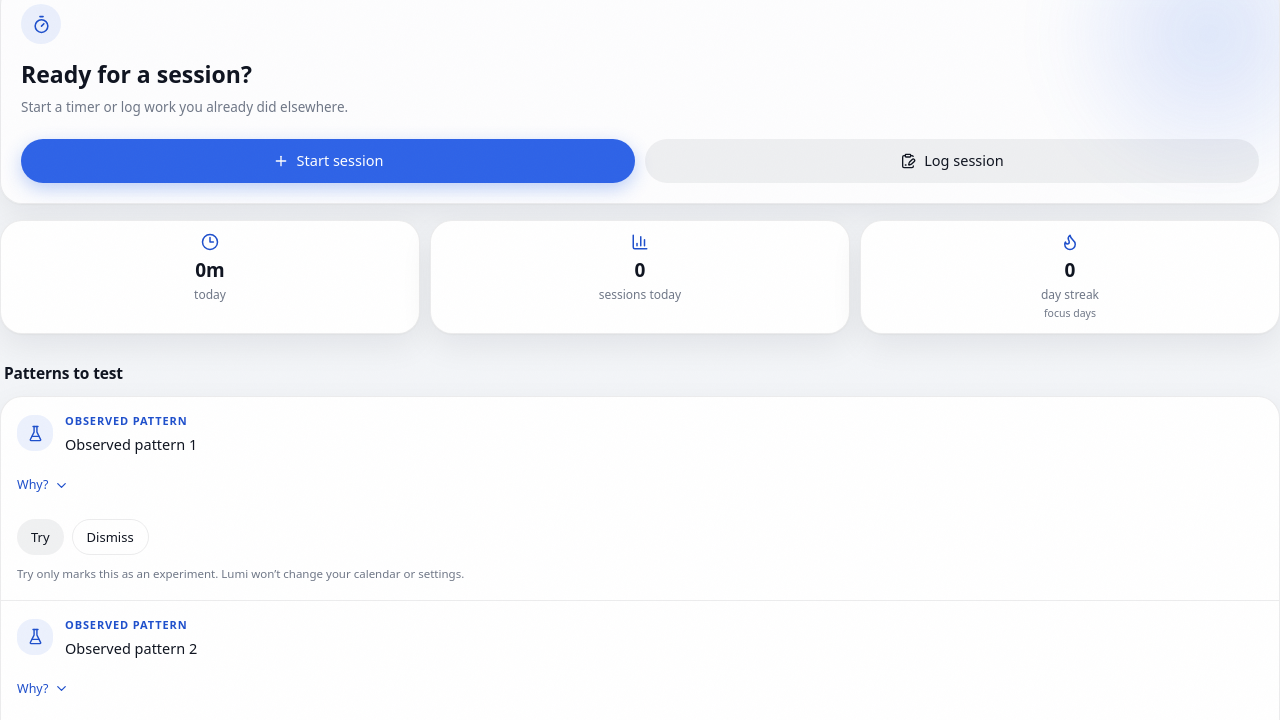
it: FocusPage › shows at most three insight hypotheses with an accessible evidence drilldown
This screenshot has width=1280, height=720.
What coordinates should you click on to do the following:
click the button "Why?" below "Observed pattern 1"
I would click on:
 (43, 485)
Its box is [17,463,69,507].
(page scrolled)
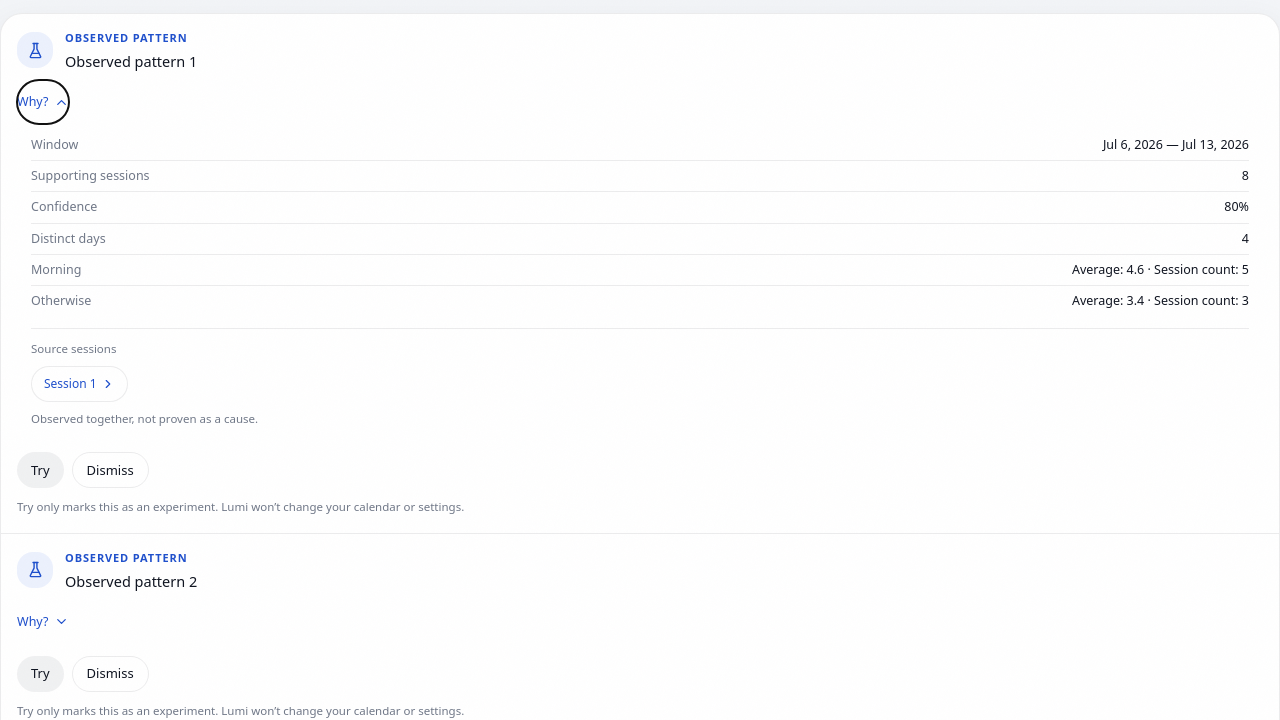
Check: the button "Why?" below "Observed pattern 1" is expanded, box [17,80,69,124]
Check: the element named "evidence" is shown, box [17,124,1263,440]
Check: the text "Supporting sessions" is shown, box [31,167,150,185]
What coordinates should you click on to do the following:
click the button "Session 1"
I would click on:
 (79, 384)
Its box is [31,366,128,402].
(page scrolled)
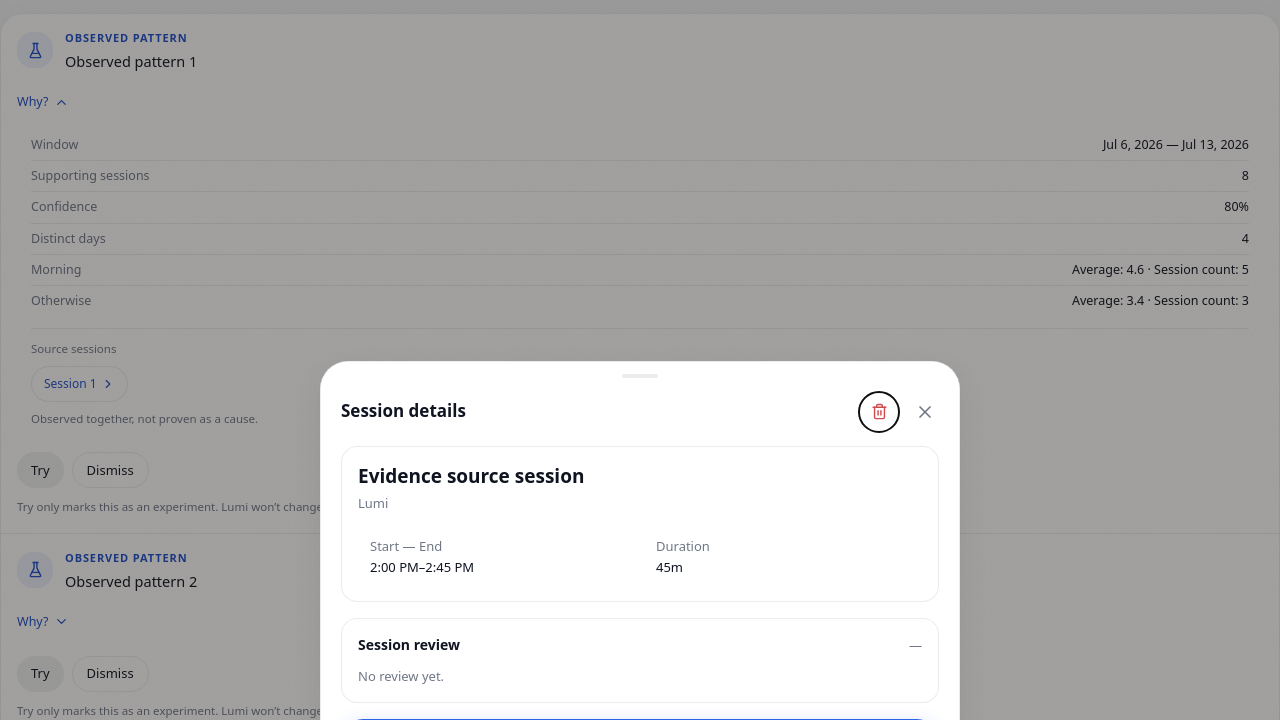
Check: the text "Evidence source session" is shown, box [358,463,584,489]
Check: the heading "Session details" is shown, box [341,400,466,424]
